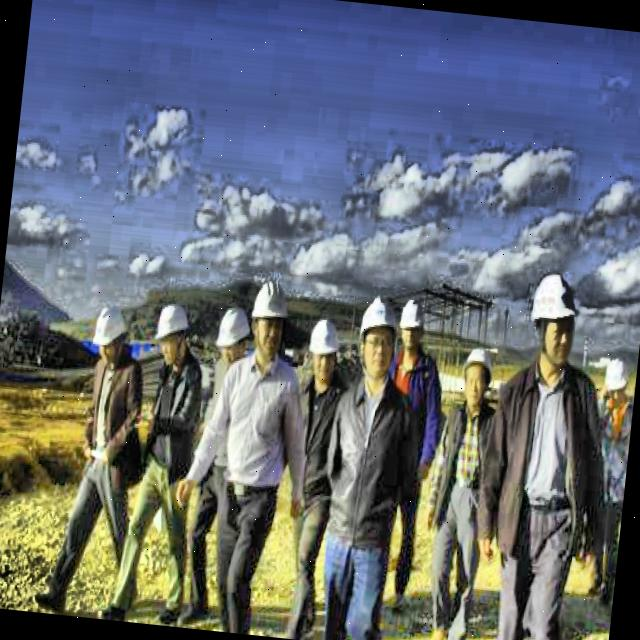helmet: (522, 268, 584, 371), (352, 287, 401, 390), (240, 273, 295, 364), (147, 299, 196, 372), (88, 299, 134, 370), (302, 314, 344, 390), (457, 342, 496, 416), (210, 304, 252, 372), (398, 295, 430, 357), (603, 350, 632, 410)
